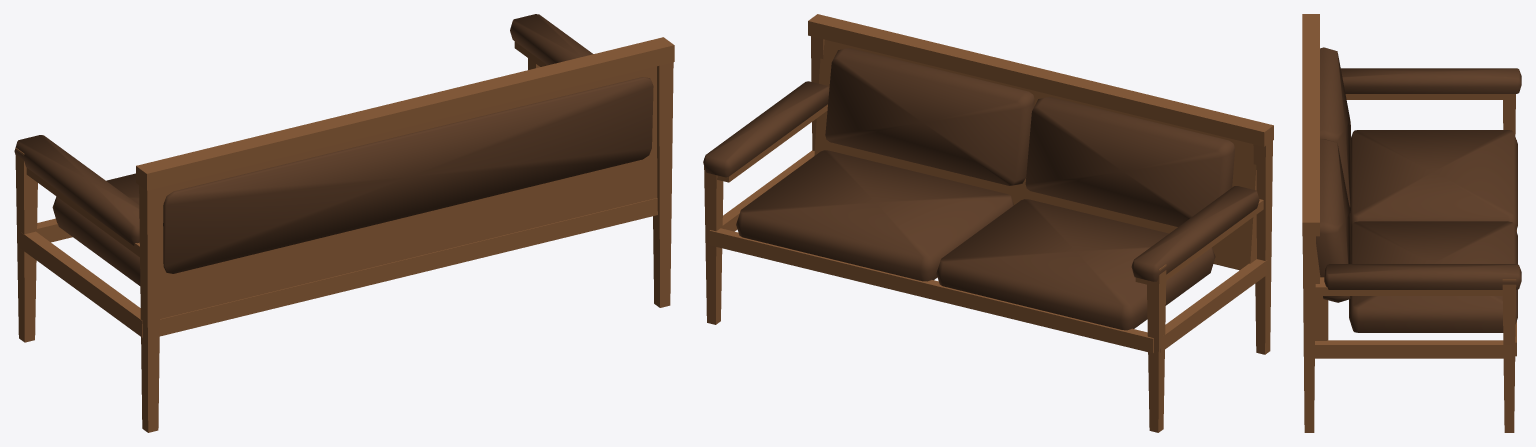
The model's file is parametric-sofa-3rd.glb.
3 renders of one model, left to right at view 1: azimuth 30°, elevation 25°; view 2: azimuth 150°, elevation 25°; view 3: azimuth 270°, elevation 25°, orthographic. The views are drawn at different scales.
Parts seen in each view (by area): view 1: parametric-sofa-3rd; view 2: parametric-sofa-3rd; view 3: parametric-sofa-3rd.
Part boxes in pixels (x1=…): parametric-sofa-3rd: x1=14, y1=14, x2=674, y2=432; parametric-sofa-3rd: x1=703, y1=14, x2=1273, y2=432; parametric-sofa-3rd: x1=1302, y1=14, x2=1521, y2=432.
Bounding box in the file's own units: 1.8 × 0.85 × 0.8.
